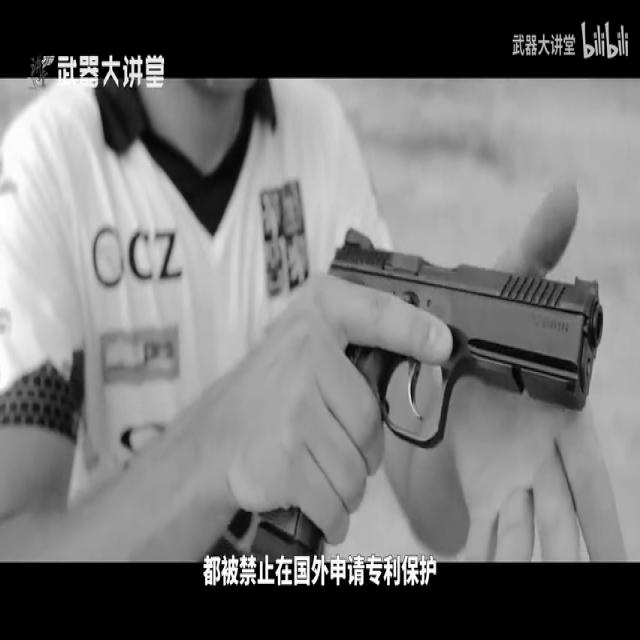Hand-Gun: (233, 190, 628, 624)
